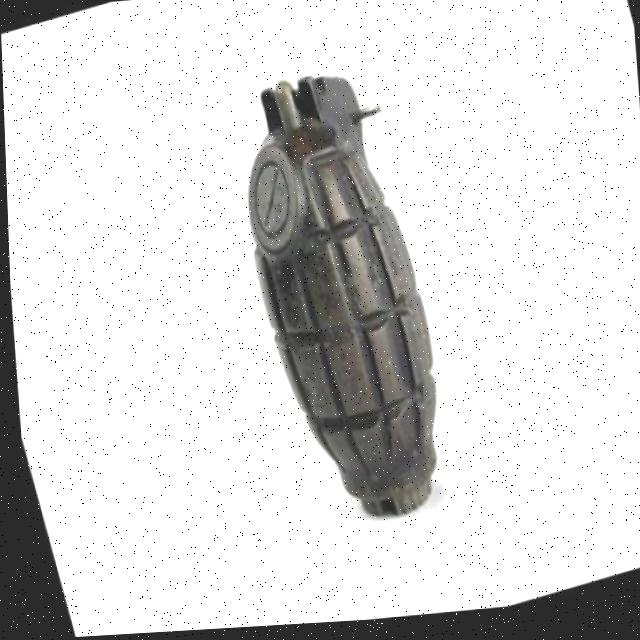grenade: (191, 42, 481, 552)
